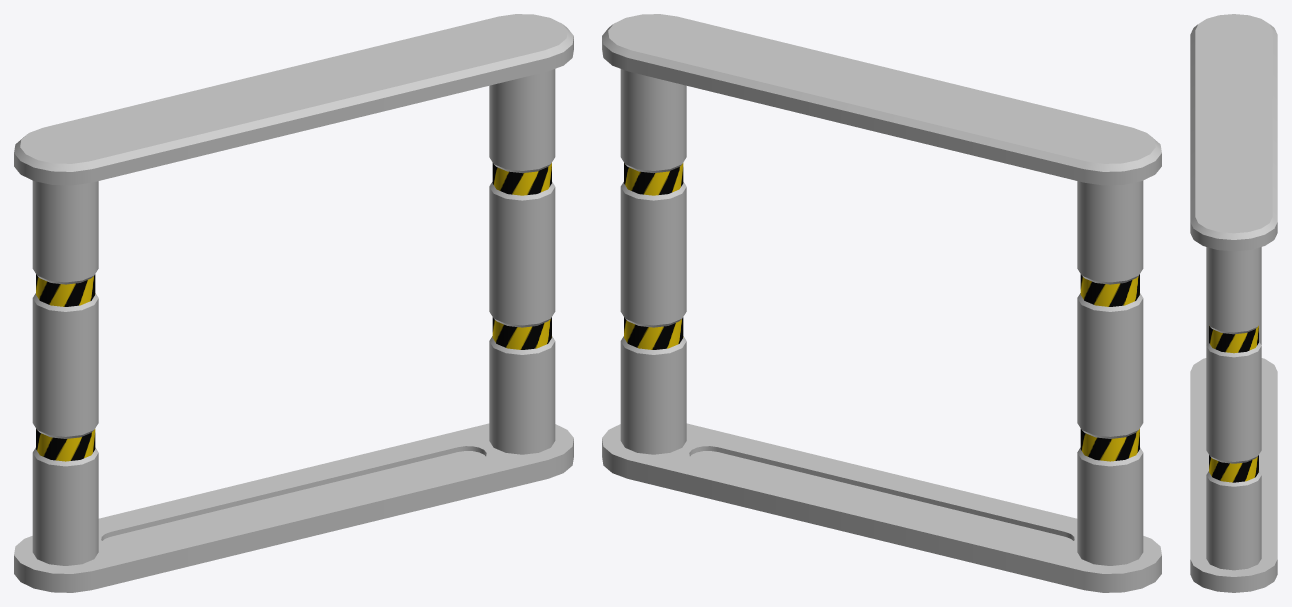
The model's file is obstacle_24_001.fbx.
3 renders of one model, left to right at view 1: azimuth 30°, elevation 25°; view 2: azimuth 150°, elevation 25°; view 3: azimuth 270°, elevation 25°, orthographic. The views are drawn at different scales.
Visible parts, largest first — view 1: obstacle_24_001; view 2: obstacle_24_001; view 3: obstacle_24_001.
Boxes of the visible parts, <box> form: obstacle_24_001: <box>14,14,573,592</box>; obstacle_24_001: <box>602,14,1161,592</box>; obstacle_24_001: <box>1190,14,1277,592</box>.
Bounding box in the file's own units: 900 × 149 × 671.
